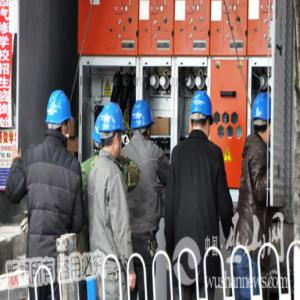blue: (100, 101, 124, 157), (46, 90, 71, 140), (190, 91, 214, 140), (253, 93, 273, 147), (131, 100, 152, 138)
